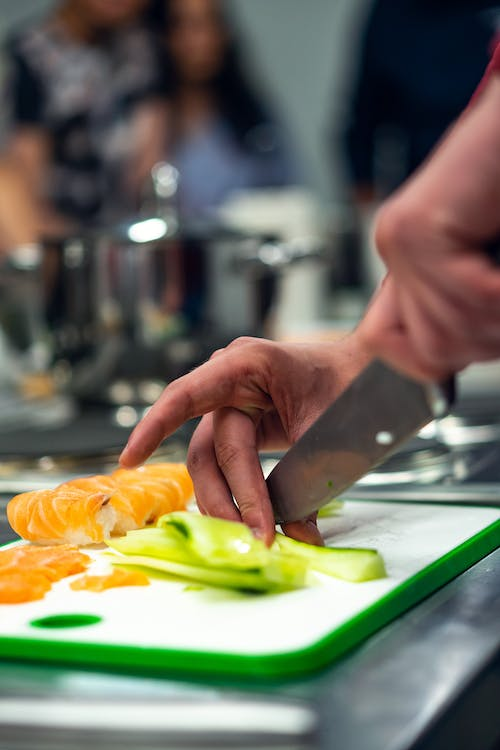knife: (261, 232, 500, 524)
